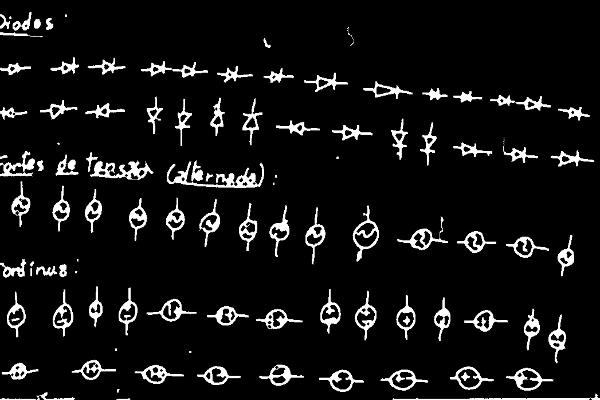diode: (368, 79, 405, 101), (311, 70, 340, 94), (418, 126, 438, 160), (241, 106, 264, 135), (336, 121, 366, 143), (44, 98, 71, 122), (283, 116, 311, 139), (208, 101, 228, 132), (97, 55, 122, 79), (220, 64, 248, 85), (555, 149, 584, 169), (390, 124, 410, 153), (91, 99, 115, 123), (56, 54, 78, 78), (147, 58, 169, 81), (145, 104, 165, 128), (174, 109, 193, 134), (457, 140, 480, 160), (266, 66, 290, 85), (562, 104, 586, 123), (506, 146, 531, 164), (456, 88, 480, 106), (178, 61, 199, 81), (521, 94, 544, 112), (492, 90, 513, 109), (425, 83, 444, 103), (0, 104, 19, 122), (4, 61, 23, 77)
signal: (351, 214, 381, 256), (198, 205, 222, 242), (267, 214, 293, 248), (509, 234, 541, 260), (164, 200, 187, 236), (405, 227, 438, 252), (460, 228, 490, 255), (128, 202, 150, 237), (9, 191, 33, 223), (304, 219, 327, 252), (238, 212, 259, 247), (49, 194, 71, 226), (82, 197, 104, 227), (556, 245, 577, 269)
voltage: (323, 365, 358, 395), (511, 364, 547, 393), (452, 364, 488, 393), (74, 356, 110, 383), (136, 360, 172, 386), (384, 368, 421, 393), (156, 297, 190, 324), (259, 305, 293, 332), (353, 299, 378, 335), (4, 300, 30, 334), (200, 362, 234, 388), (51, 298, 75, 334), (116, 294, 140, 330), (264, 362, 297, 388), (318, 296, 342, 331), (394, 301, 417, 335), (469, 307, 499, 333), (3, 357, 34, 382), (546, 324, 569, 357), (213, 301, 240, 328), (431, 303, 453, 335), (521, 312, 541, 343), (86, 298, 105, 324)
